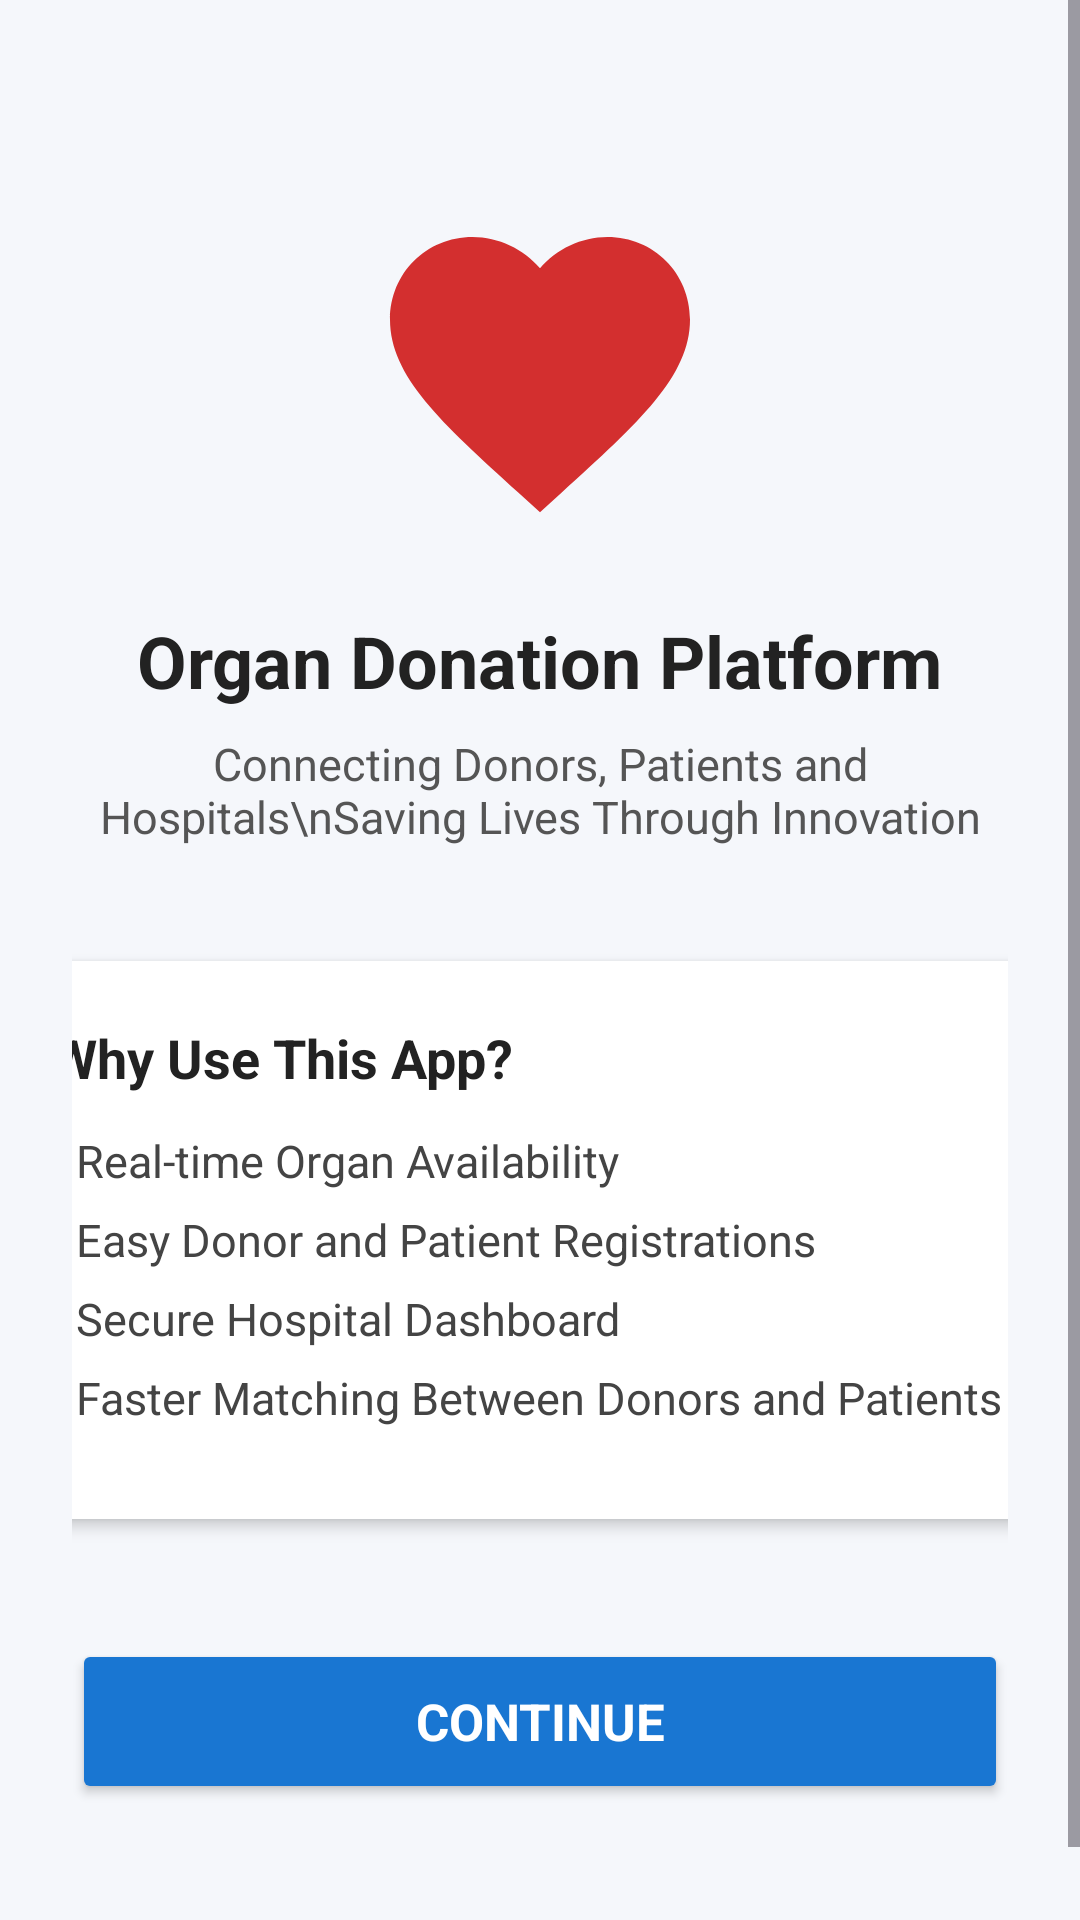

Icon click points for this 1080 × 1920 phone screenshot, format [x,y]:
heart: [540,374]
